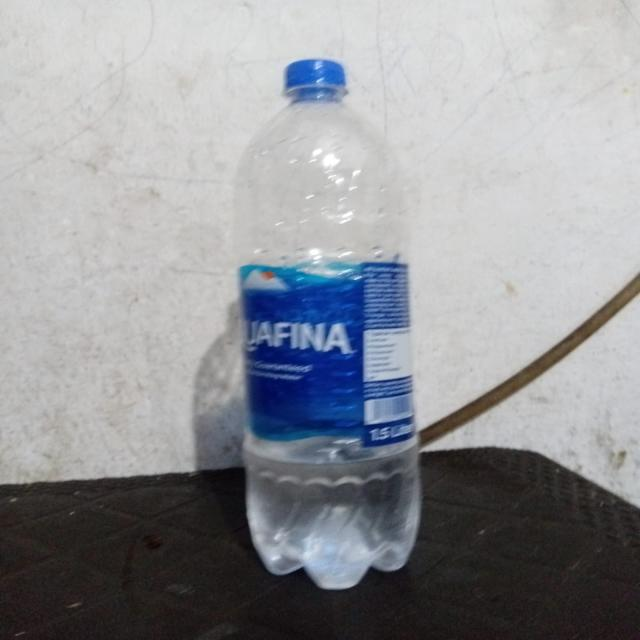bottle: (222, 44, 440, 596)
cap: (272, 52, 360, 104)
label: (230, 257, 430, 453)
